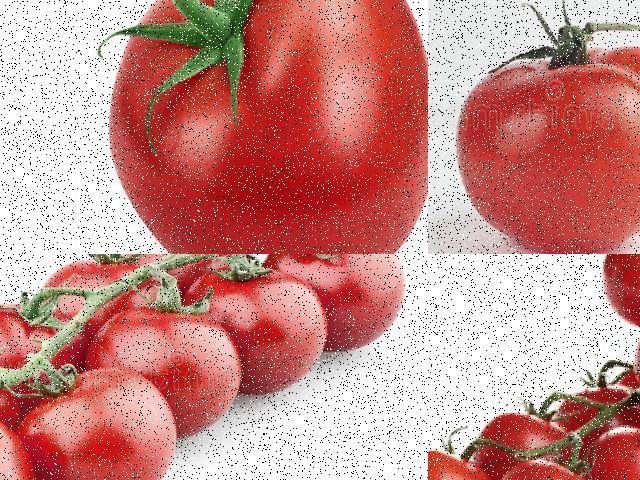tomato: (100, 0, 427, 253), (461, 45, 639, 253), (185, 260, 332, 418), (93, 300, 243, 450), (17, 366, 183, 479), (261, 254, 416, 365), (0, 292, 99, 418), (50, 254, 172, 350), (479, 415, 573, 479), (125, 254, 228, 296), (494, 454, 607, 479), (590, 432, 639, 479)
